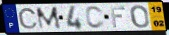4: (66, 5, 84, 31)
C: (85, 5, 106, 30), (17, 7, 39, 30)
F: (109, 6, 126, 29)
M: (35, 6, 63, 31)
O: (129, 4, 150, 29)
